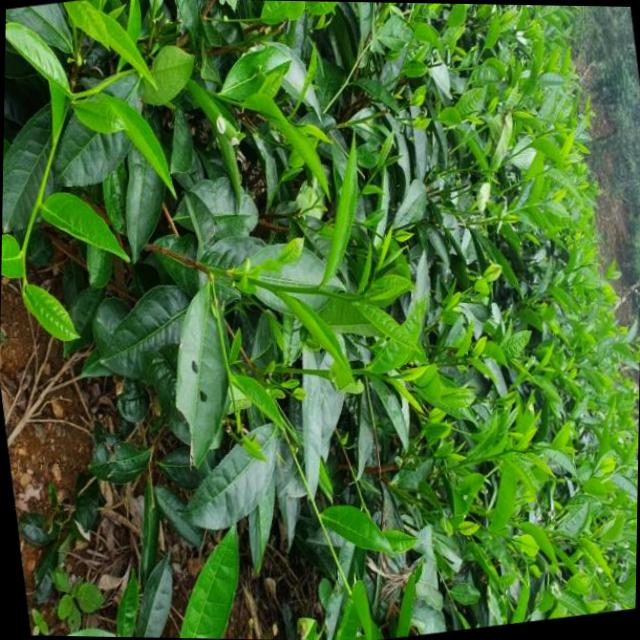Stem: (358, 367, 366, 373), (22, 246, 25, 254), (347, 296, 351, 301), (545, 445, 549, 448)
